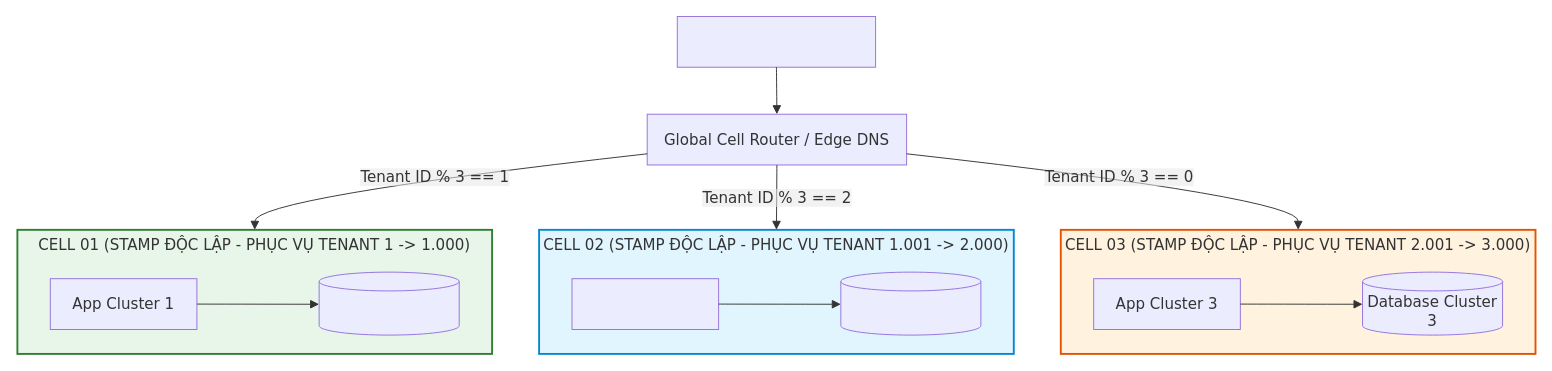
Some shapes in this 1552 by 371 pixel diagram are drawn without their labels. The centre of each missing label's shape, as x and y in pixels:
App Cluster 2: point (645, 303)
Database Cluster 1: point (388, 303)
Database Cluster 2: point (910, 303)
Người dùng Toàn cầu: point (776, 41)
